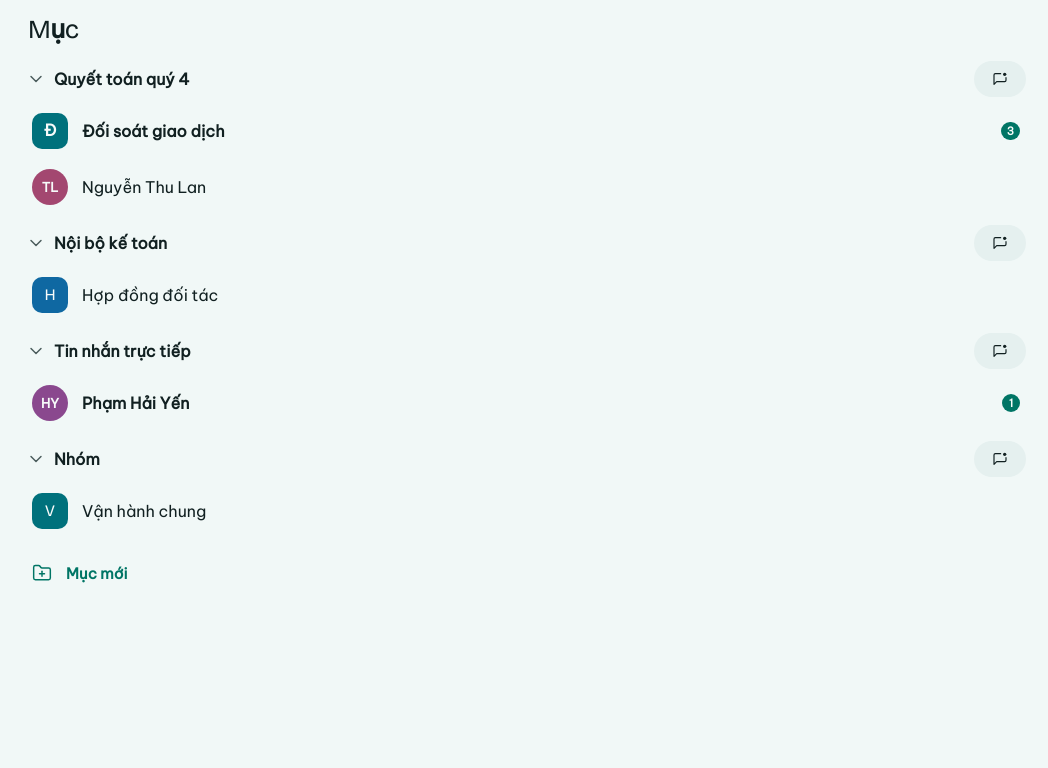
the header of a section › says so when nothing in the section is unread
Check: the list named "Quyết toán quý 4" is shown, box [12,103,1036,215]
Click the button named "Chỉ hiện chưa đọc trong Nội bộ kế toán". click: (1000,243)
box: [974,225,1026,261]
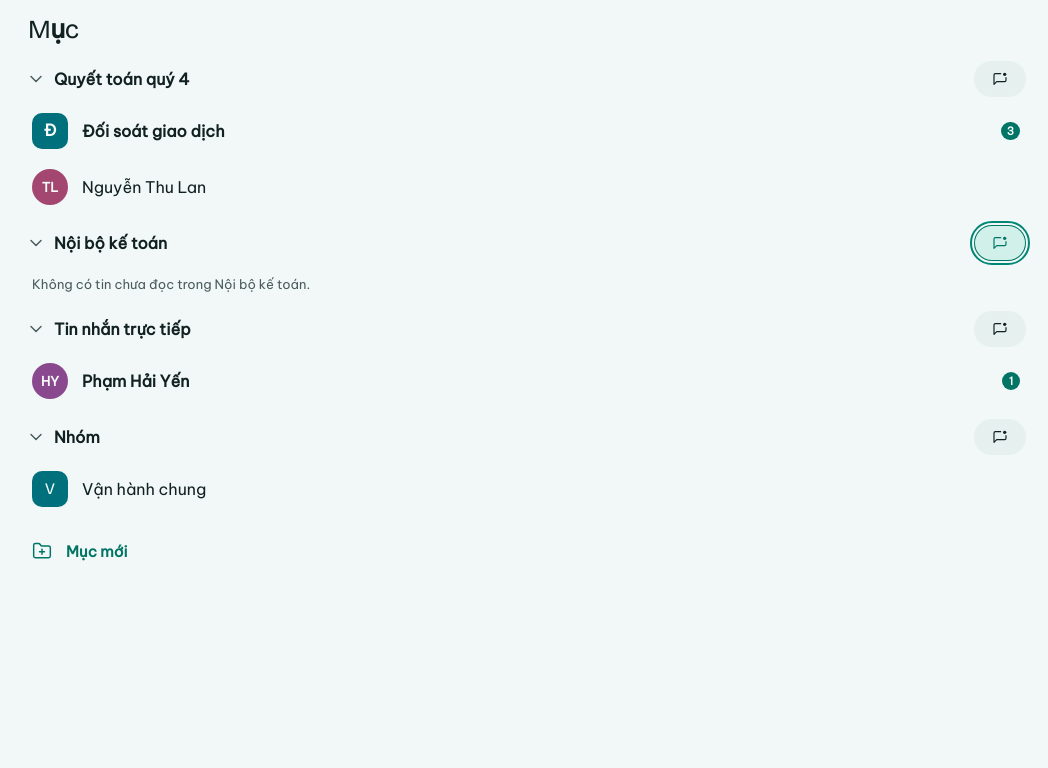
Check: the text "Không có tin chưa đọc trong Nội bộ kế toán." is shown, box [32,276,310,292]
